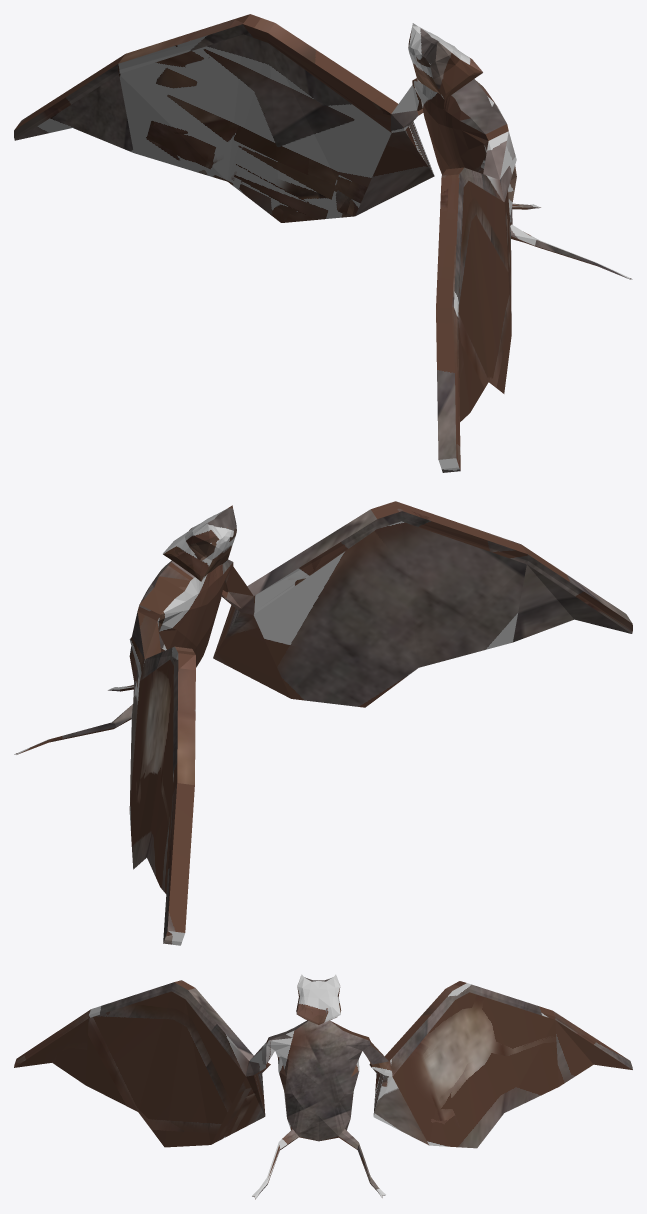
The model's file is Enemigo18.obj.
3 views of the same model, one above another, from view 1: azimuth 30°, elevation 25°; view 2: azimuth 150°, elevation 25°; view 3: azimuth 270°, elevation 25° (orthographic). The views are drawn at different scales.
Visible parts, largest first — view 1: Plano; view 2: Plano; view 3: Plano.
Boxes of the visible parts, <box> form: Plano: <box>14,14,632,472</box>; Plano: <box>14,501,632,945</box>; Plano: <box>14,974,632,1199</box>.
Bounding box in the file's own units: 0.9058 × 0.6415 × 1.95.
Materials: 1 (1 with a texture image).
